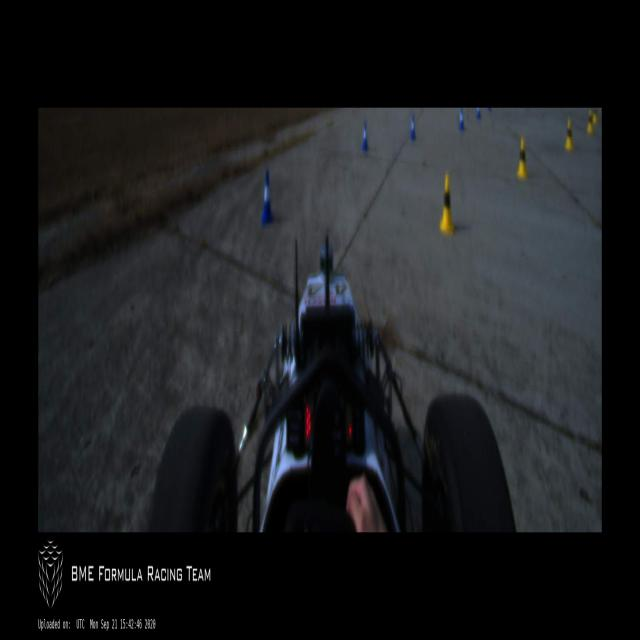blue_cone: (261, 171, 273, 227), (362, 121, 369, 152), (410, 114, 416, 141), (459, 108, 465, 132)
yellow_cone: (439, 174, 455, 235), (516, 138, 530, 180), (564, 119, 574, 152), (587, 111, 594, 135), (593, 108, 599, 126)
